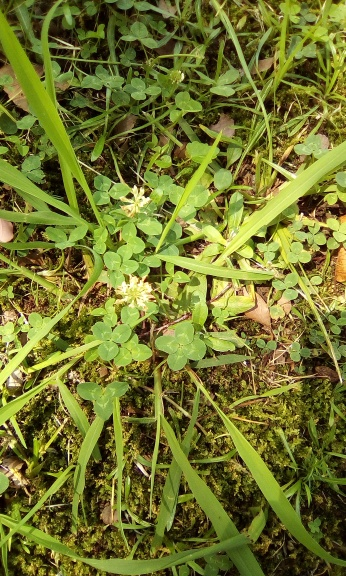4leaf: (155, 320, 207, 371)
